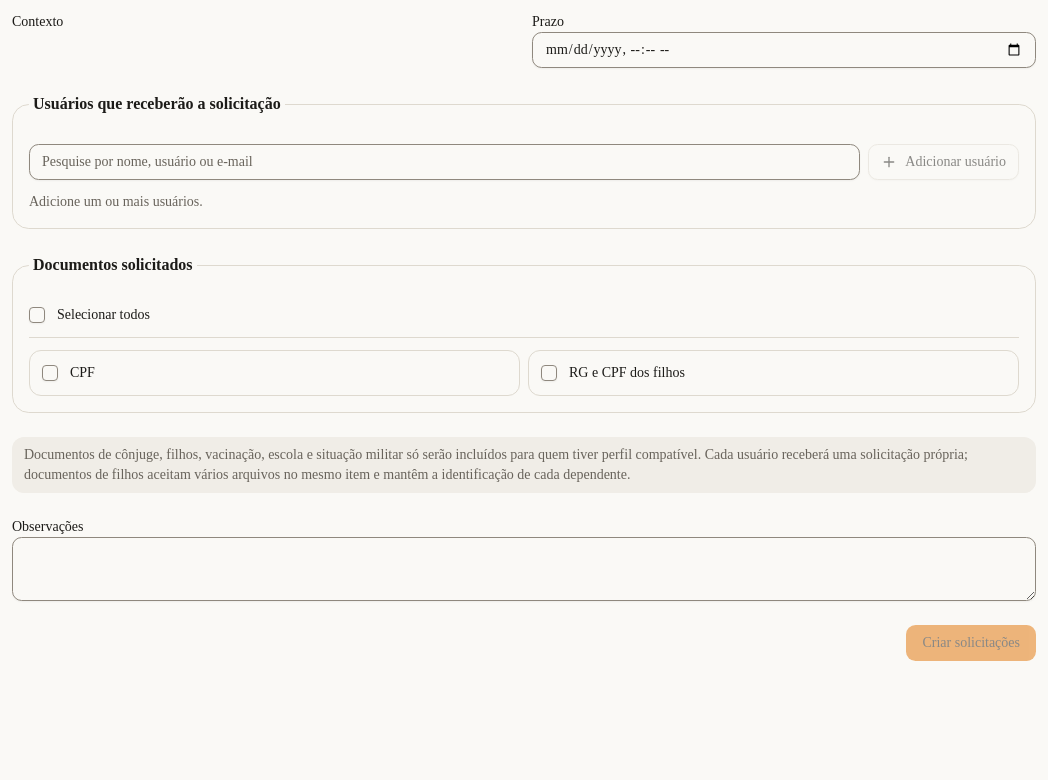
it: BatchDocumentRequestForm › adiciona vários usuários e seleciona todos os documentos
Type "Ana Silva · ana · ana@example.com" into the field named "Usuário a adicionar". click: (445, 162)
box: [29,144,860,180]
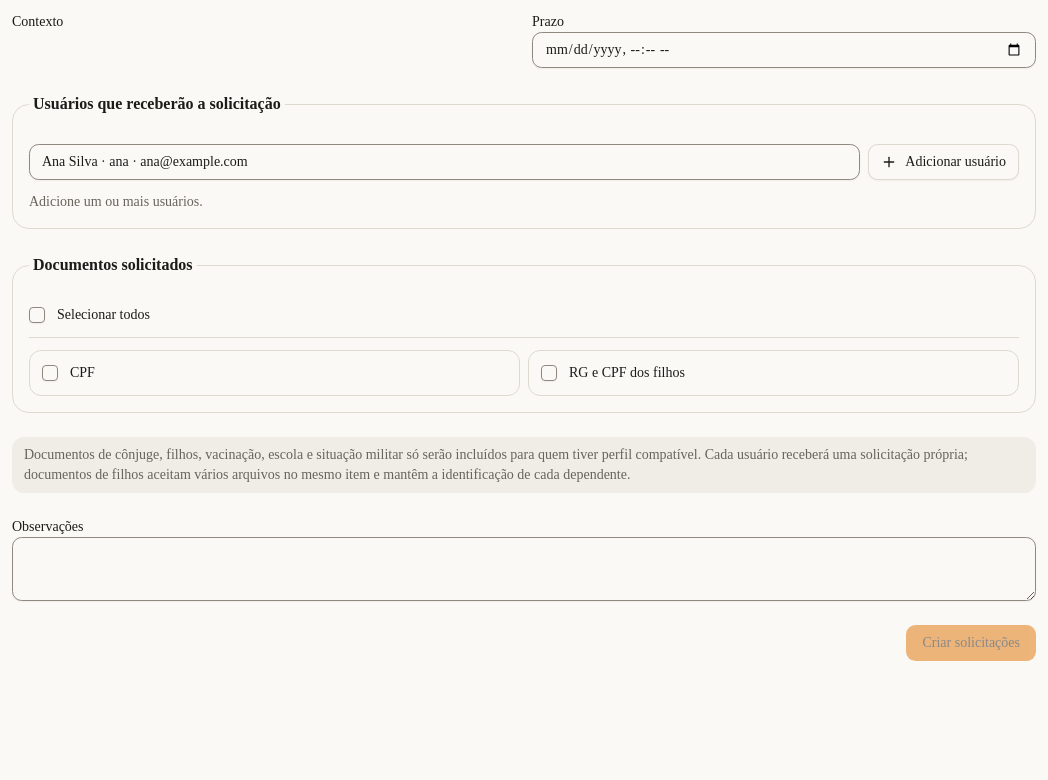
Click the button "Adicionar usuário". click: (944, 162)
box: [868,144,1019,180]
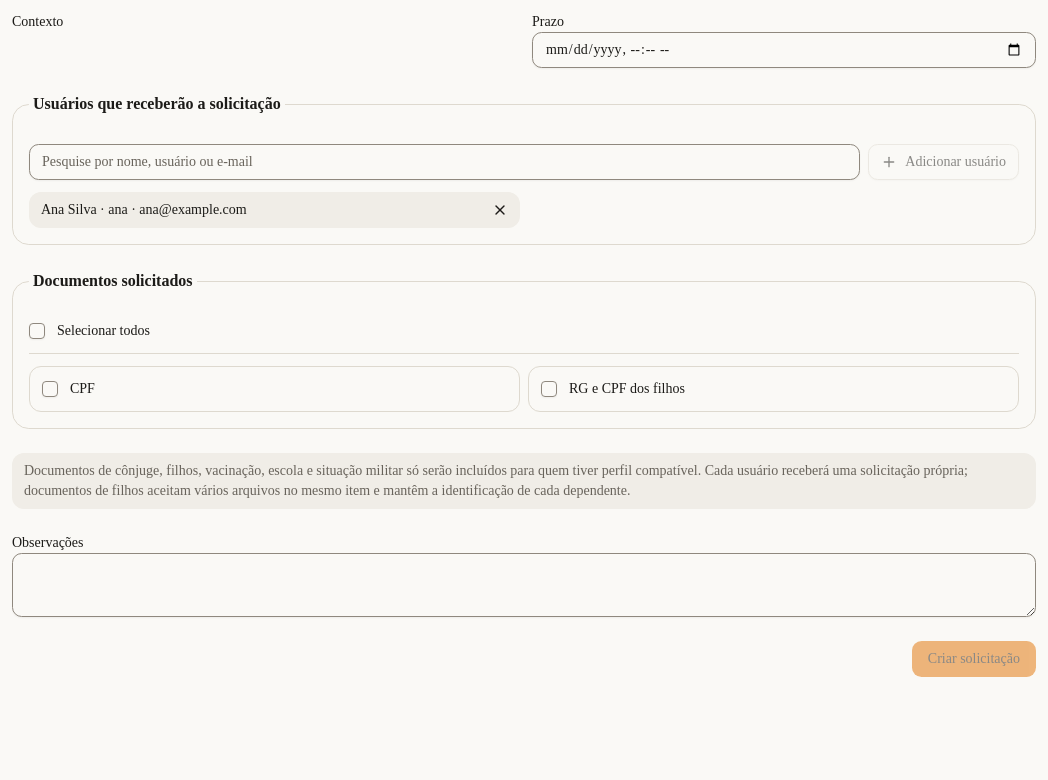
Type "Ana Souza · anas · ana.souza@example.com" into the field named "Usuário a adicionar". click: (445, 162)
box: [29,144,860,180]
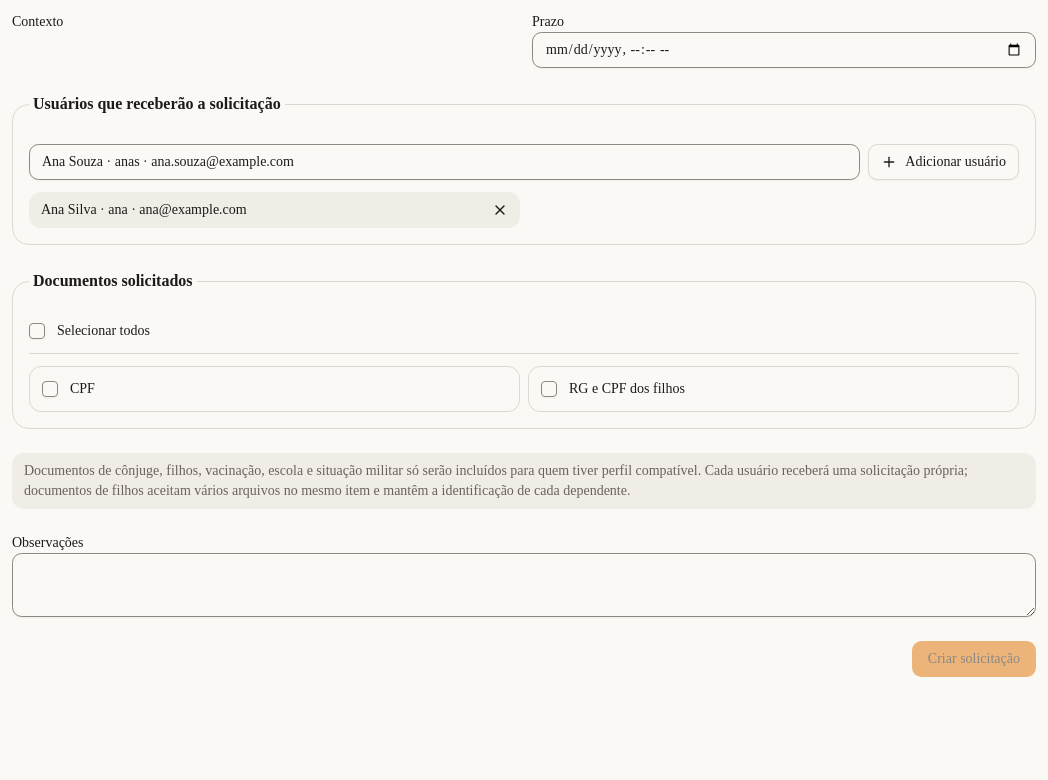
Click the button "Adicionar usuário". click: (944, 162)
box: [868,144,1019,180]
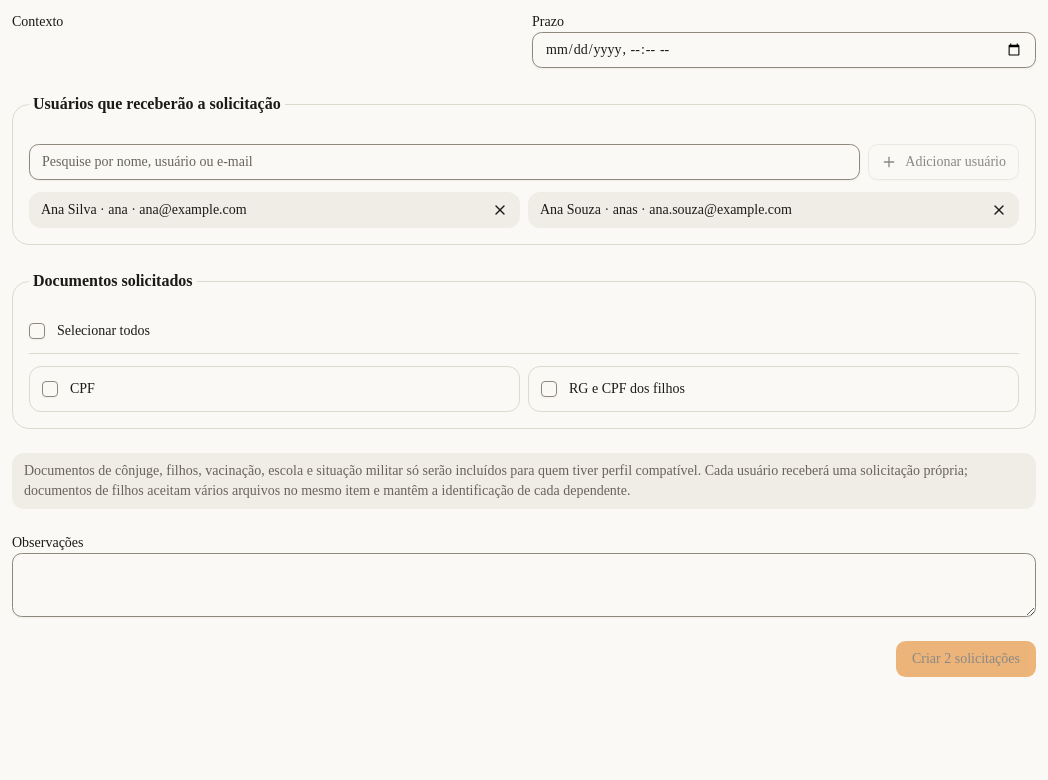
Click the checkbox named "Selecionar todos os documentos". click: (37, 331)
box: [29,323,45,339]
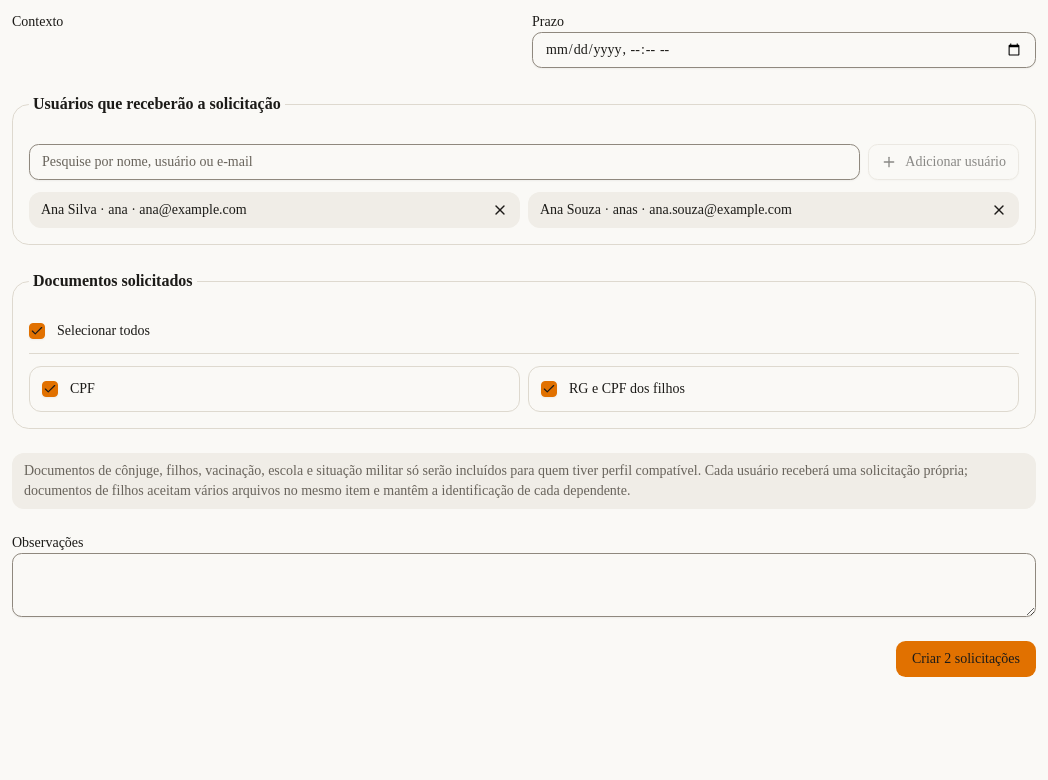
Now the text "Ana Silva · ana · ana@example.com" is shown, box [41,200,247,220]
Now the text "Ana Souza · anas · ana.souza@example.com" is shown, box [540,200,792,220]
Now the button "Criar 2 solicitações" is enabled, box [896,641,1036,677]
